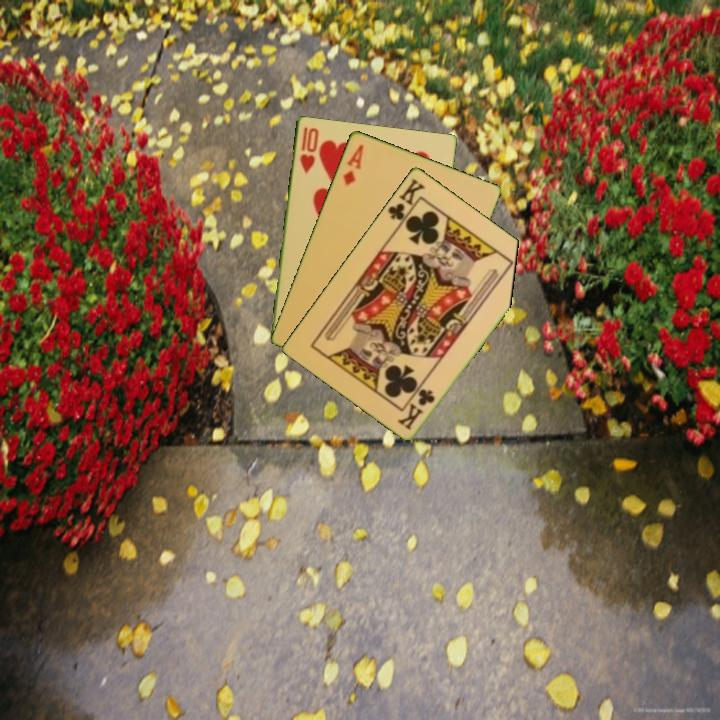10h: (296, 123, 321, 176)
Ad: (339, 140, 366, 188)
Kc: (384, 174, 428, 229), (395, 385, 438, 432)
